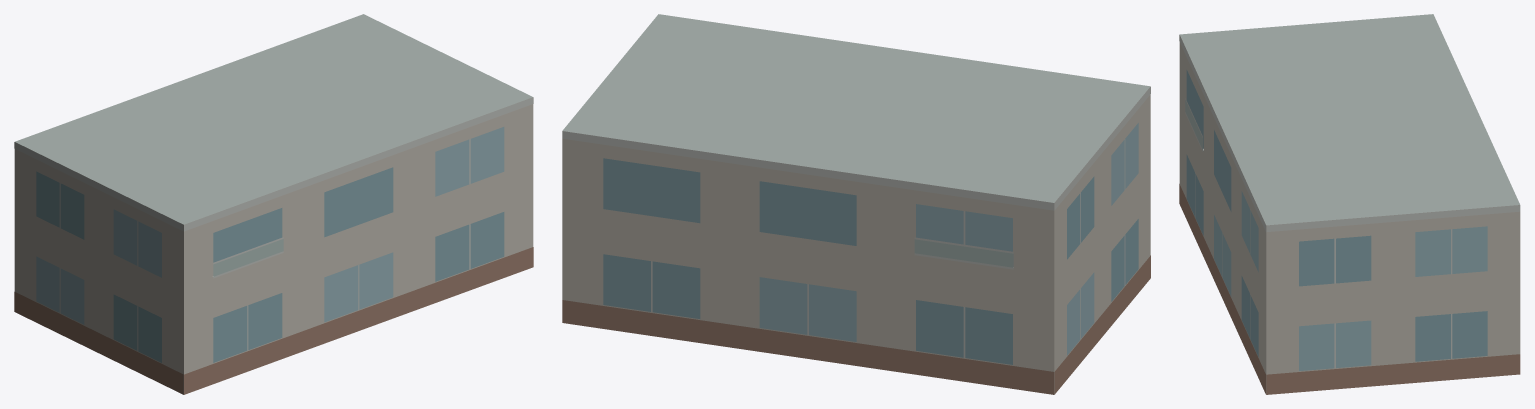
The model's file is survey-upis-32705634.glb.
The picture shows the model from 3 angles, left to right: view 1: azimuth 30°, elevation 25°; view 2: azimuth 150°, elevation 25°; view 3: azimuth 270°, elevation 25°; orthographic projection. The views are drawn at different scales.
Visible parts, largest first — view 1: survey-upis-32705634.tmp; view 2: survey-upis-32705634.tmp; view 3: survey-upis-32705634.tmp.
Boxes of the visible parts, x1,y1,x2,y2 form: survey-upis-32705634.tmp: (14, 14, 533, 394); survey-upis-32705634.tmp: (562, 14, 1150, 394); survey-upis-32705634.tmp: (1179, 14, 1520, 394).
Size of the model in its own units: 16.33 by 6.1 by 11.13.
